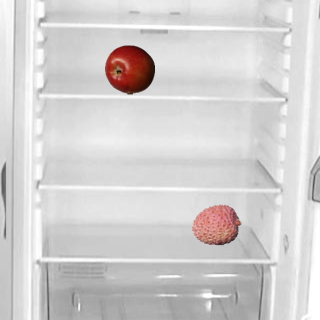Apple Braeburn: (104, 44, 154, 94)
Lychee: (191, 199, 241, 249)
